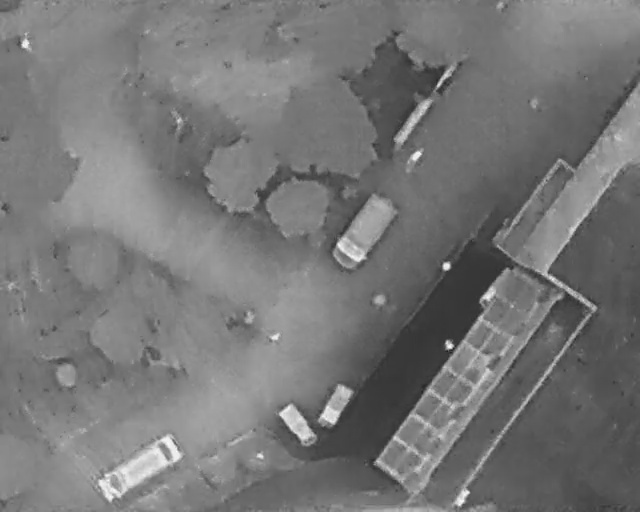OtherVehicle: (326, 186, 403, 277), (92, 432, 187, 504), (275, 400, 321, 450), (316, 379, 355, 433)
